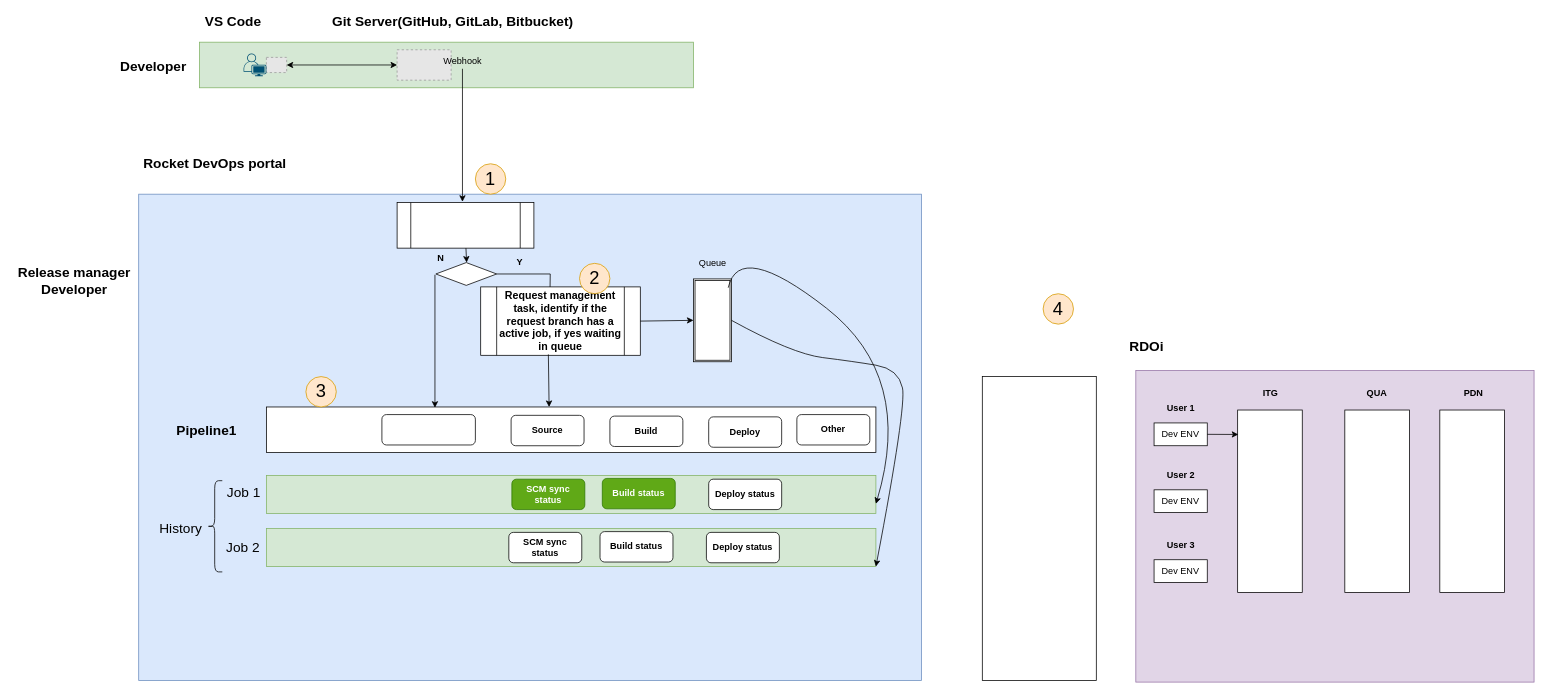
This 1547x695 diagram has some shape labels left out. Grey dashed boxes stand in for pictures. The box of each missing label's shape, as (x1, y1, x2, y2) in pixels:
RDOp various Validation (Token, parameter, GAR/Git): (396, 202, 534, 248)
User 1 User 2 User 3: (693, 278, 732, 362)
Where to display? TBD: (381, 414, 475, 445)
